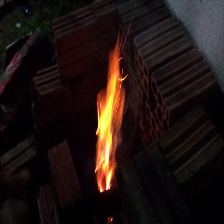fire: (86, 36, 128, 196)
